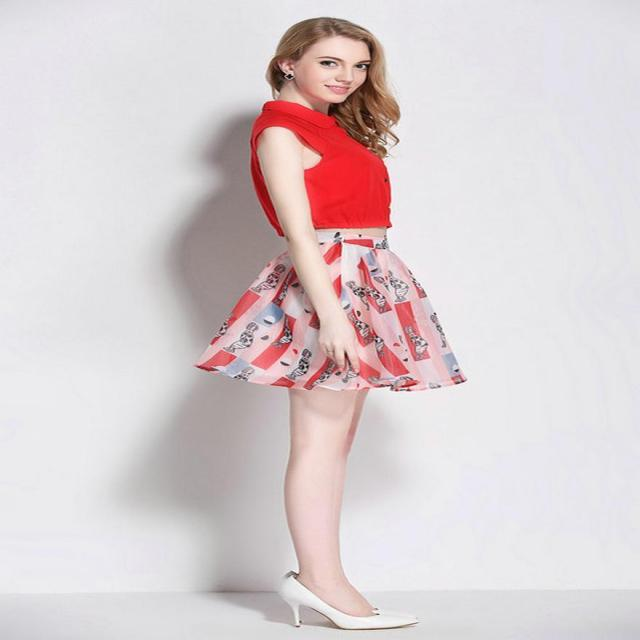skirt: (193, 232, 468, 389)
vest: (253, 102, 393, 236)
